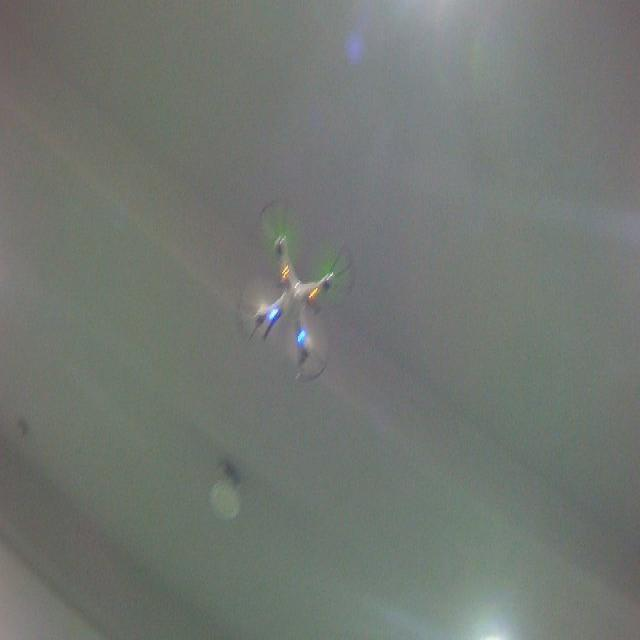drone: (234, 192, 358, 386)
